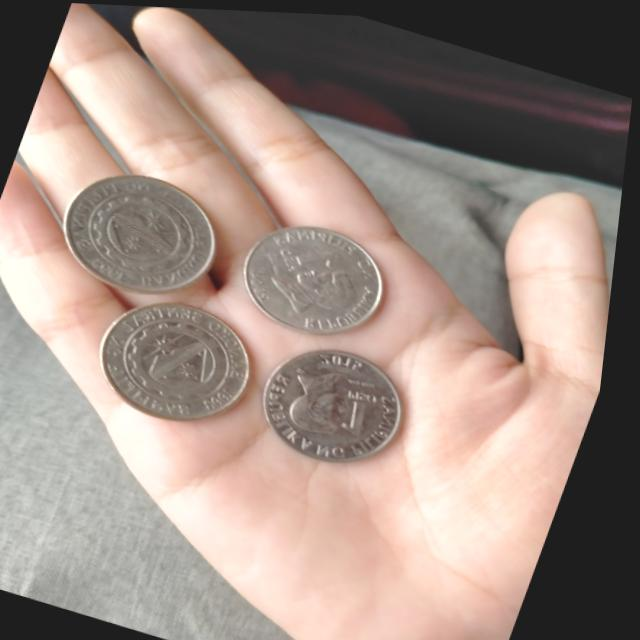1_Old_Back: (108, 300, 250, 417), (74, 173, 213, 292)
